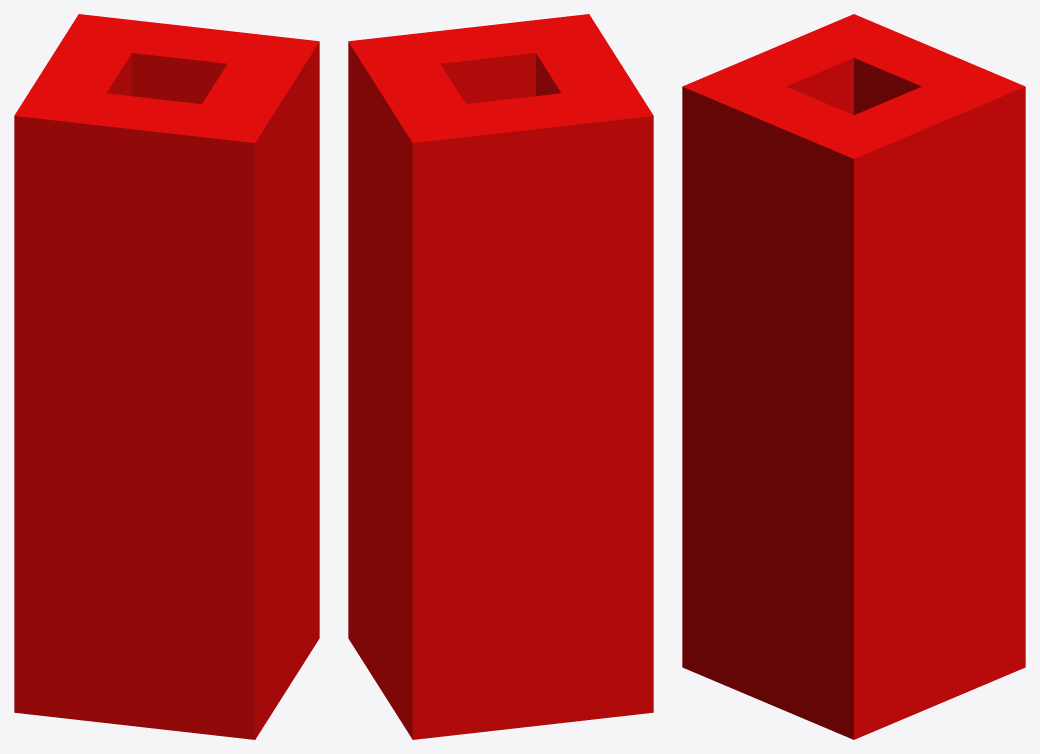
The model's file is BOTTOM.glb.
3 views of the same model, side by side, from view 1: azimuth 30°, elevation 25°; view 2: azimuth 150°, elevation 25°; view 3: azimuth 270°, elevation 25° (orthographic). The views are drawn at different scales.
Visible parts, largest first — view 1: columns; view 2: columns; view 3: columns.
Boxes of the visible parts, x1,y1,x2,y2 form: columns: [14, 14, 319, 739]; columns: [348, 14, 653, 739]; columns: [682, 14, 1025, 739].
Bounding box in the file's own units: 0.7027 × 1.31 × 0.7027.
